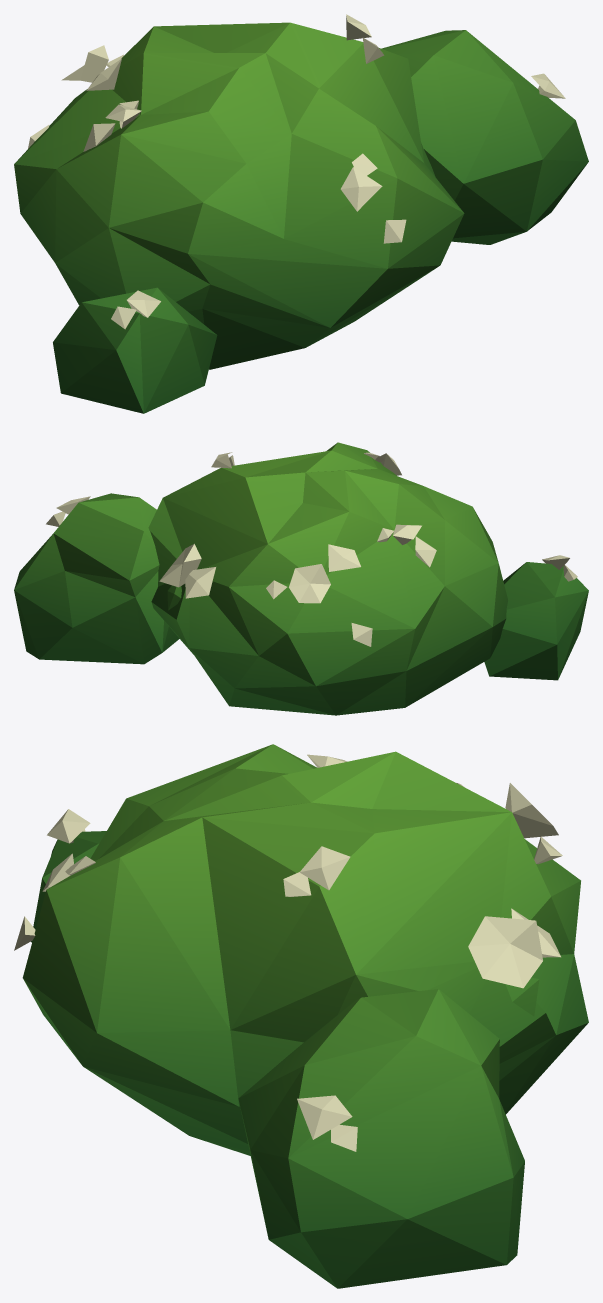
The model's file is flowers_02.fbx.
The picture shows the model from 3 angles, top to bottom: view 1: azimuth 30°, elevation 25°; view 2: azimuth 150°, elevation 25°; view 3: azimuth 270°, elevation 25°; orthographic projection. The views are drawn at different scales.
Visible parts, largest first — view 1: Flowers_06.001; view 2: Flowers_06.001; view 3: Flowers_06.001.
Part boxes in pixels (x1,y1,x2,y2): Flowers_06.001: (14,14,588,413); Flowers_06.001: (14,442,588,715); Flowers_06.001: (14,744,588,1288).
Size of the model in its own units: 2.17 by 0.891 by 1.46.
